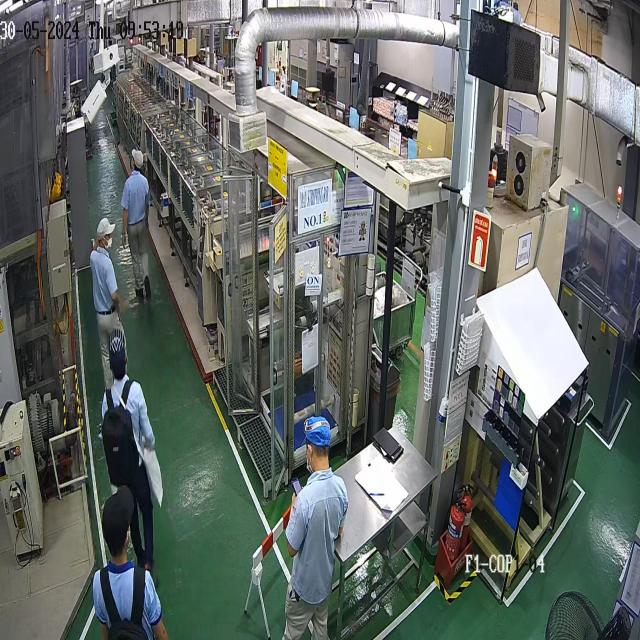Person: (281, 415, 349, 639), (100, 327, 156, 577), (92, 485, 169, 639), (89, 217, 123, 392), (121, 148, 151, 302)
